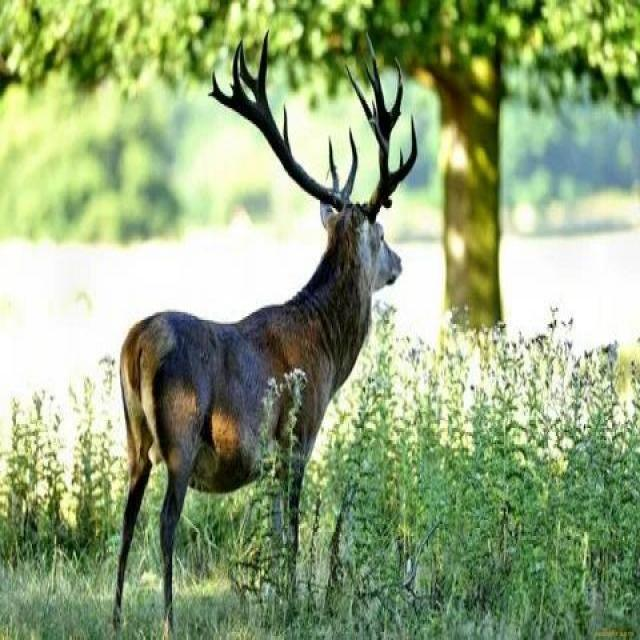deer: (100, 72, 455, 592)
